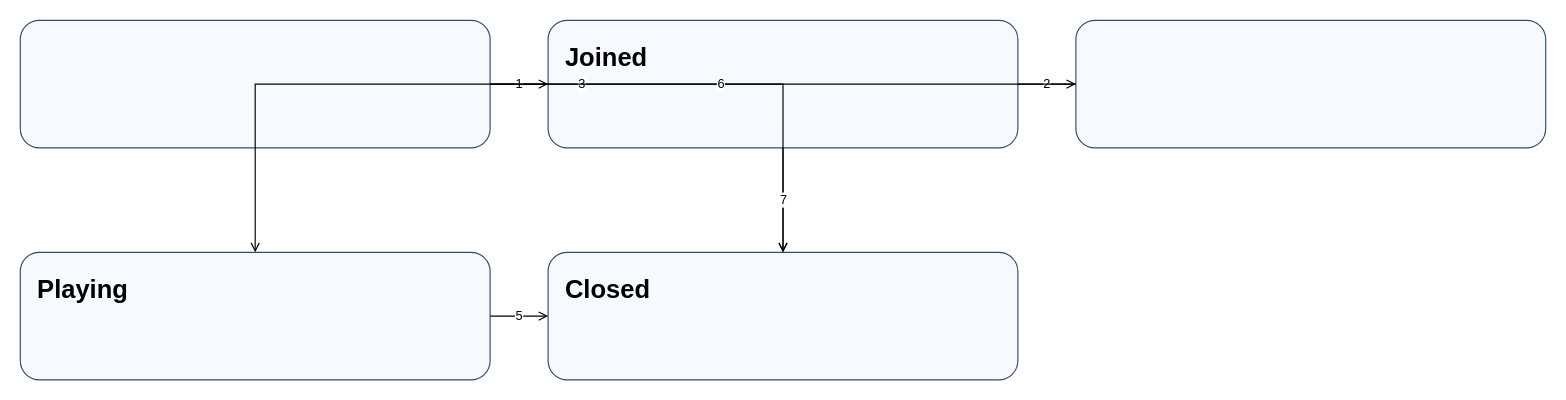
Some shapes in this 1566 by 400 pixel diagram are drawn without their labels. The shapes that lost their labels are listed below. From the top down, each one's centre as x and y in pixels, then its label:
[254,83]: Created
[1310,83]: Ready
